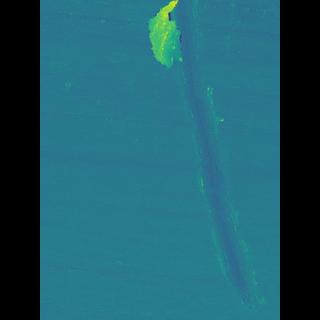Loch: (147, 0, 237, 317), (148, 0, 179, 76)
